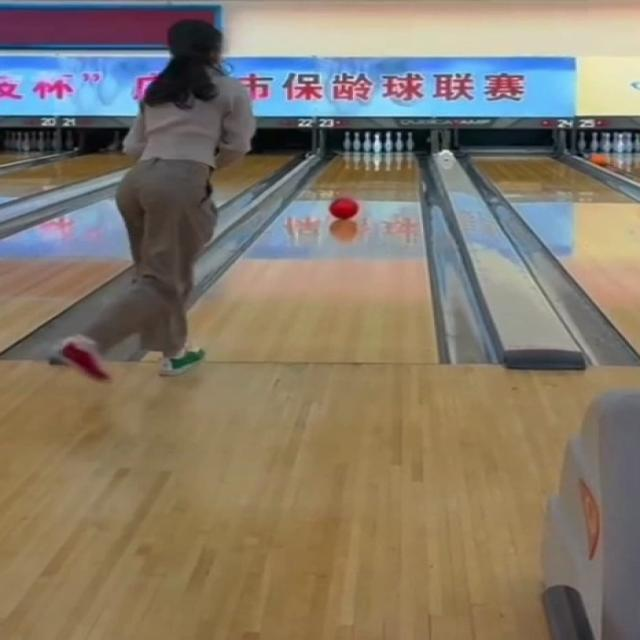alley: (191, 154, 435, 361)
balls: (330, 200, 358, 219)
bottle: (339, 131, 413, 153)
